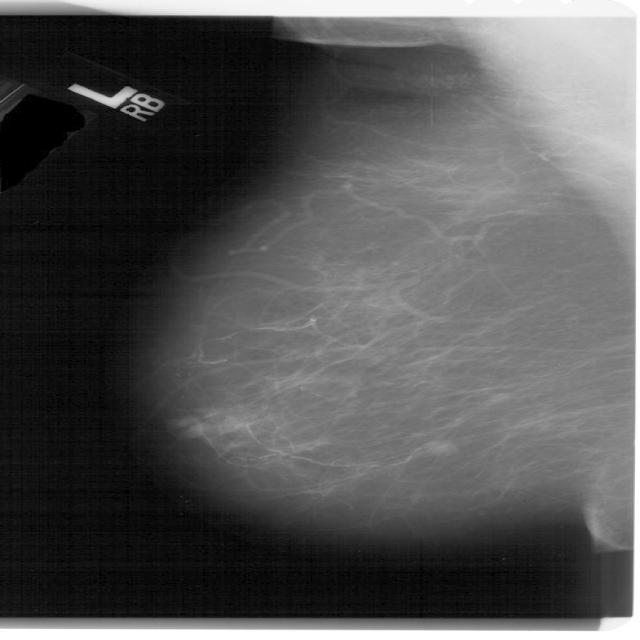tumour: (423, 440, 455, 454)
